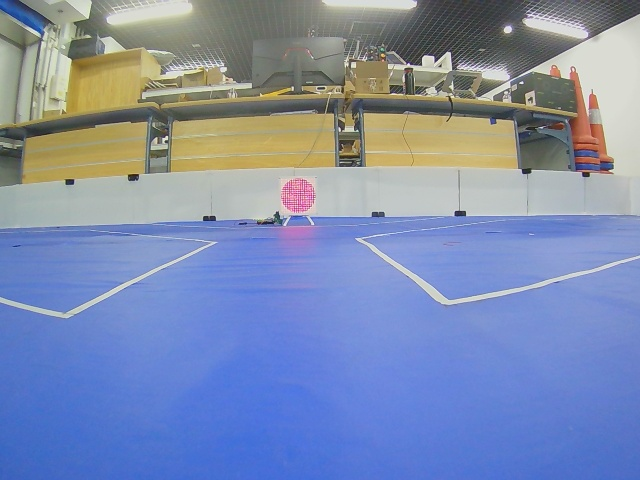red: (281, 178, 316, 214)
